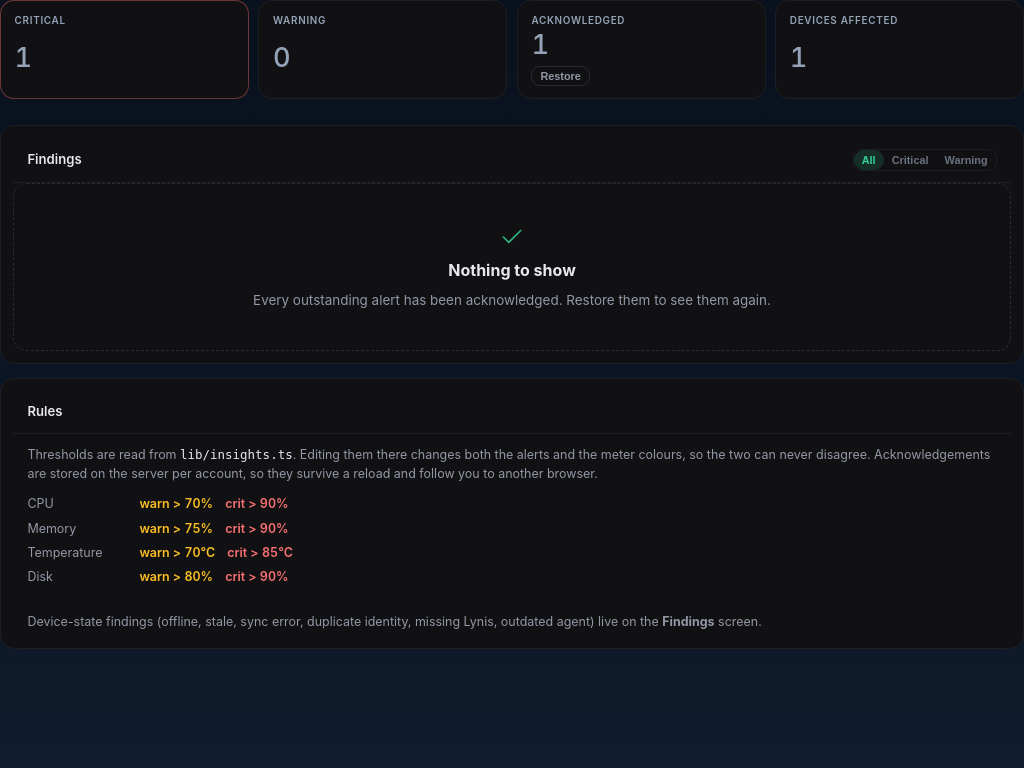
Test: Alerts screen › restores every acknowledgement on the server
Click the button "Restore" at (561, 76), box [531,66,590,86]
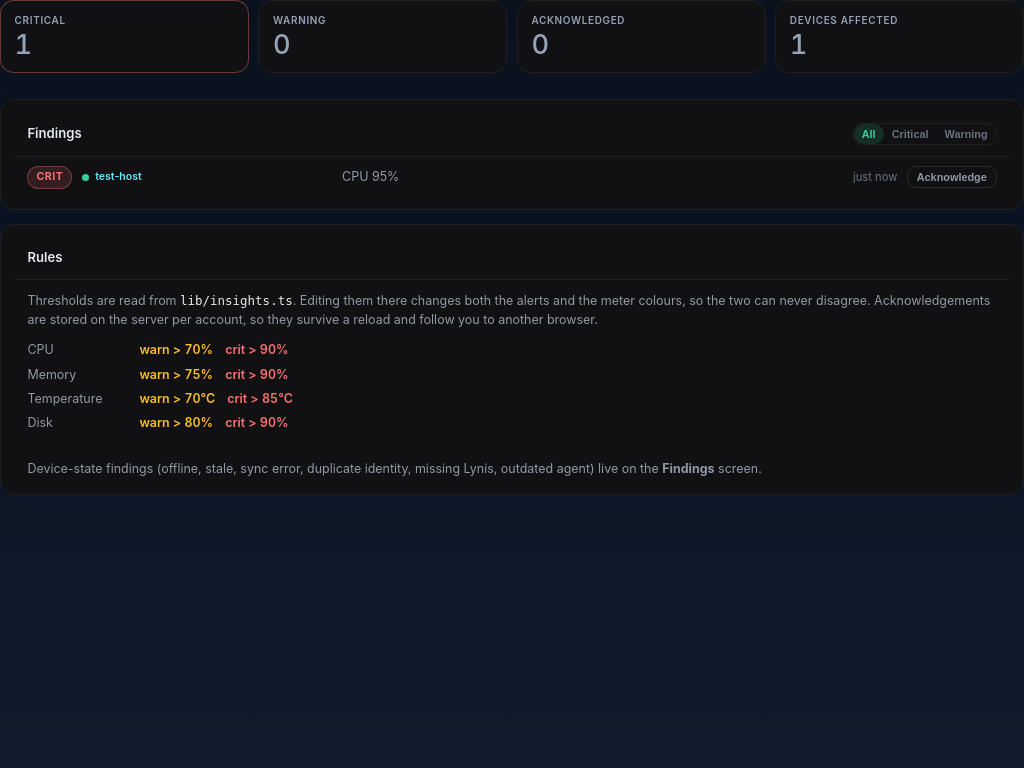
Now the text "CPU 95%" is shown, box [342,169,399,184]
